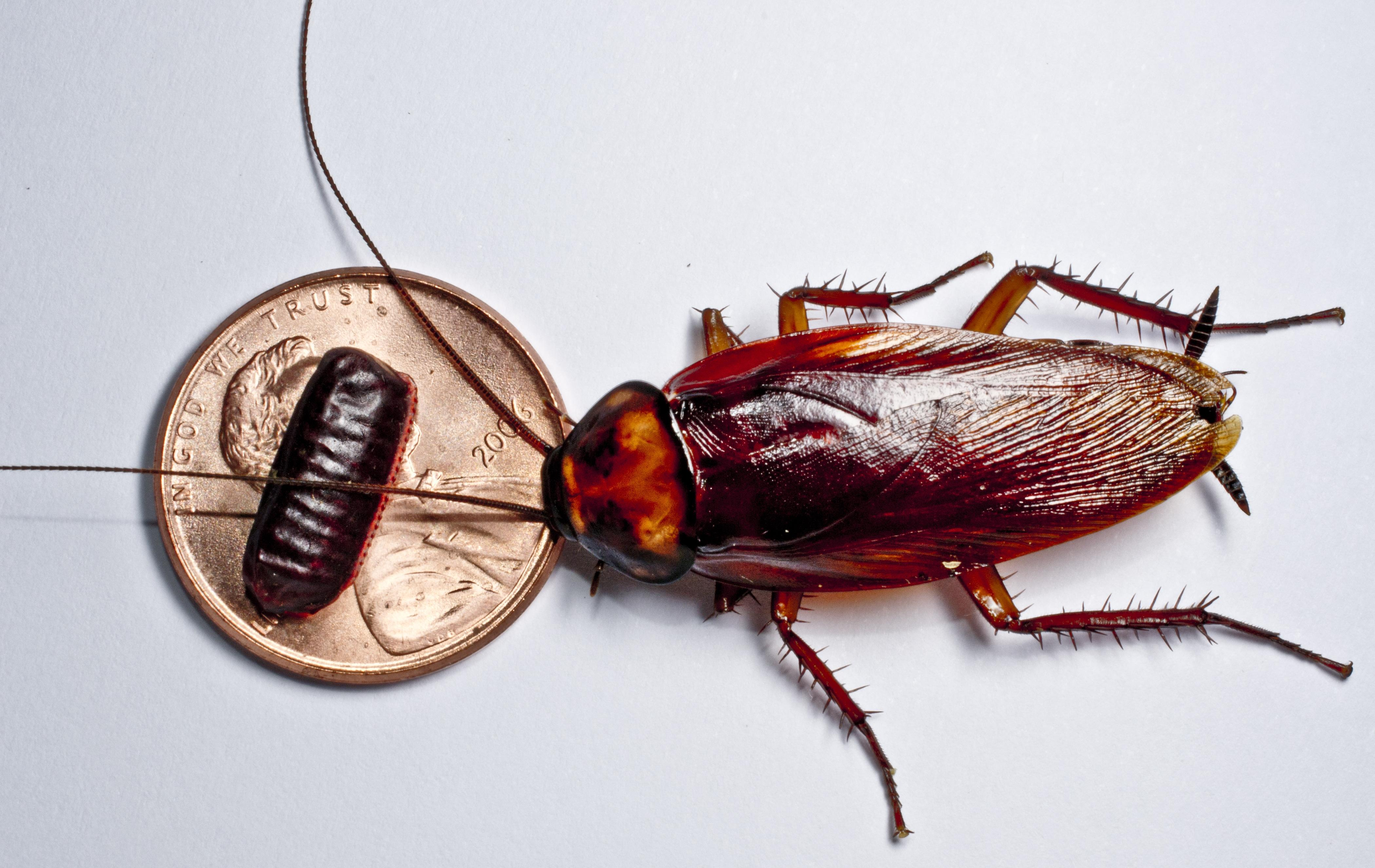cockroach: (522, 275, 1260, 635)
